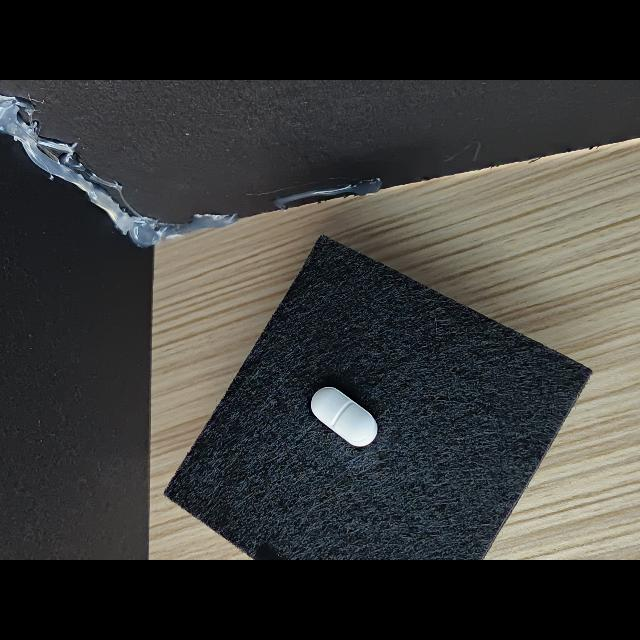Intact Pill: (311, 387, 378, 447)
